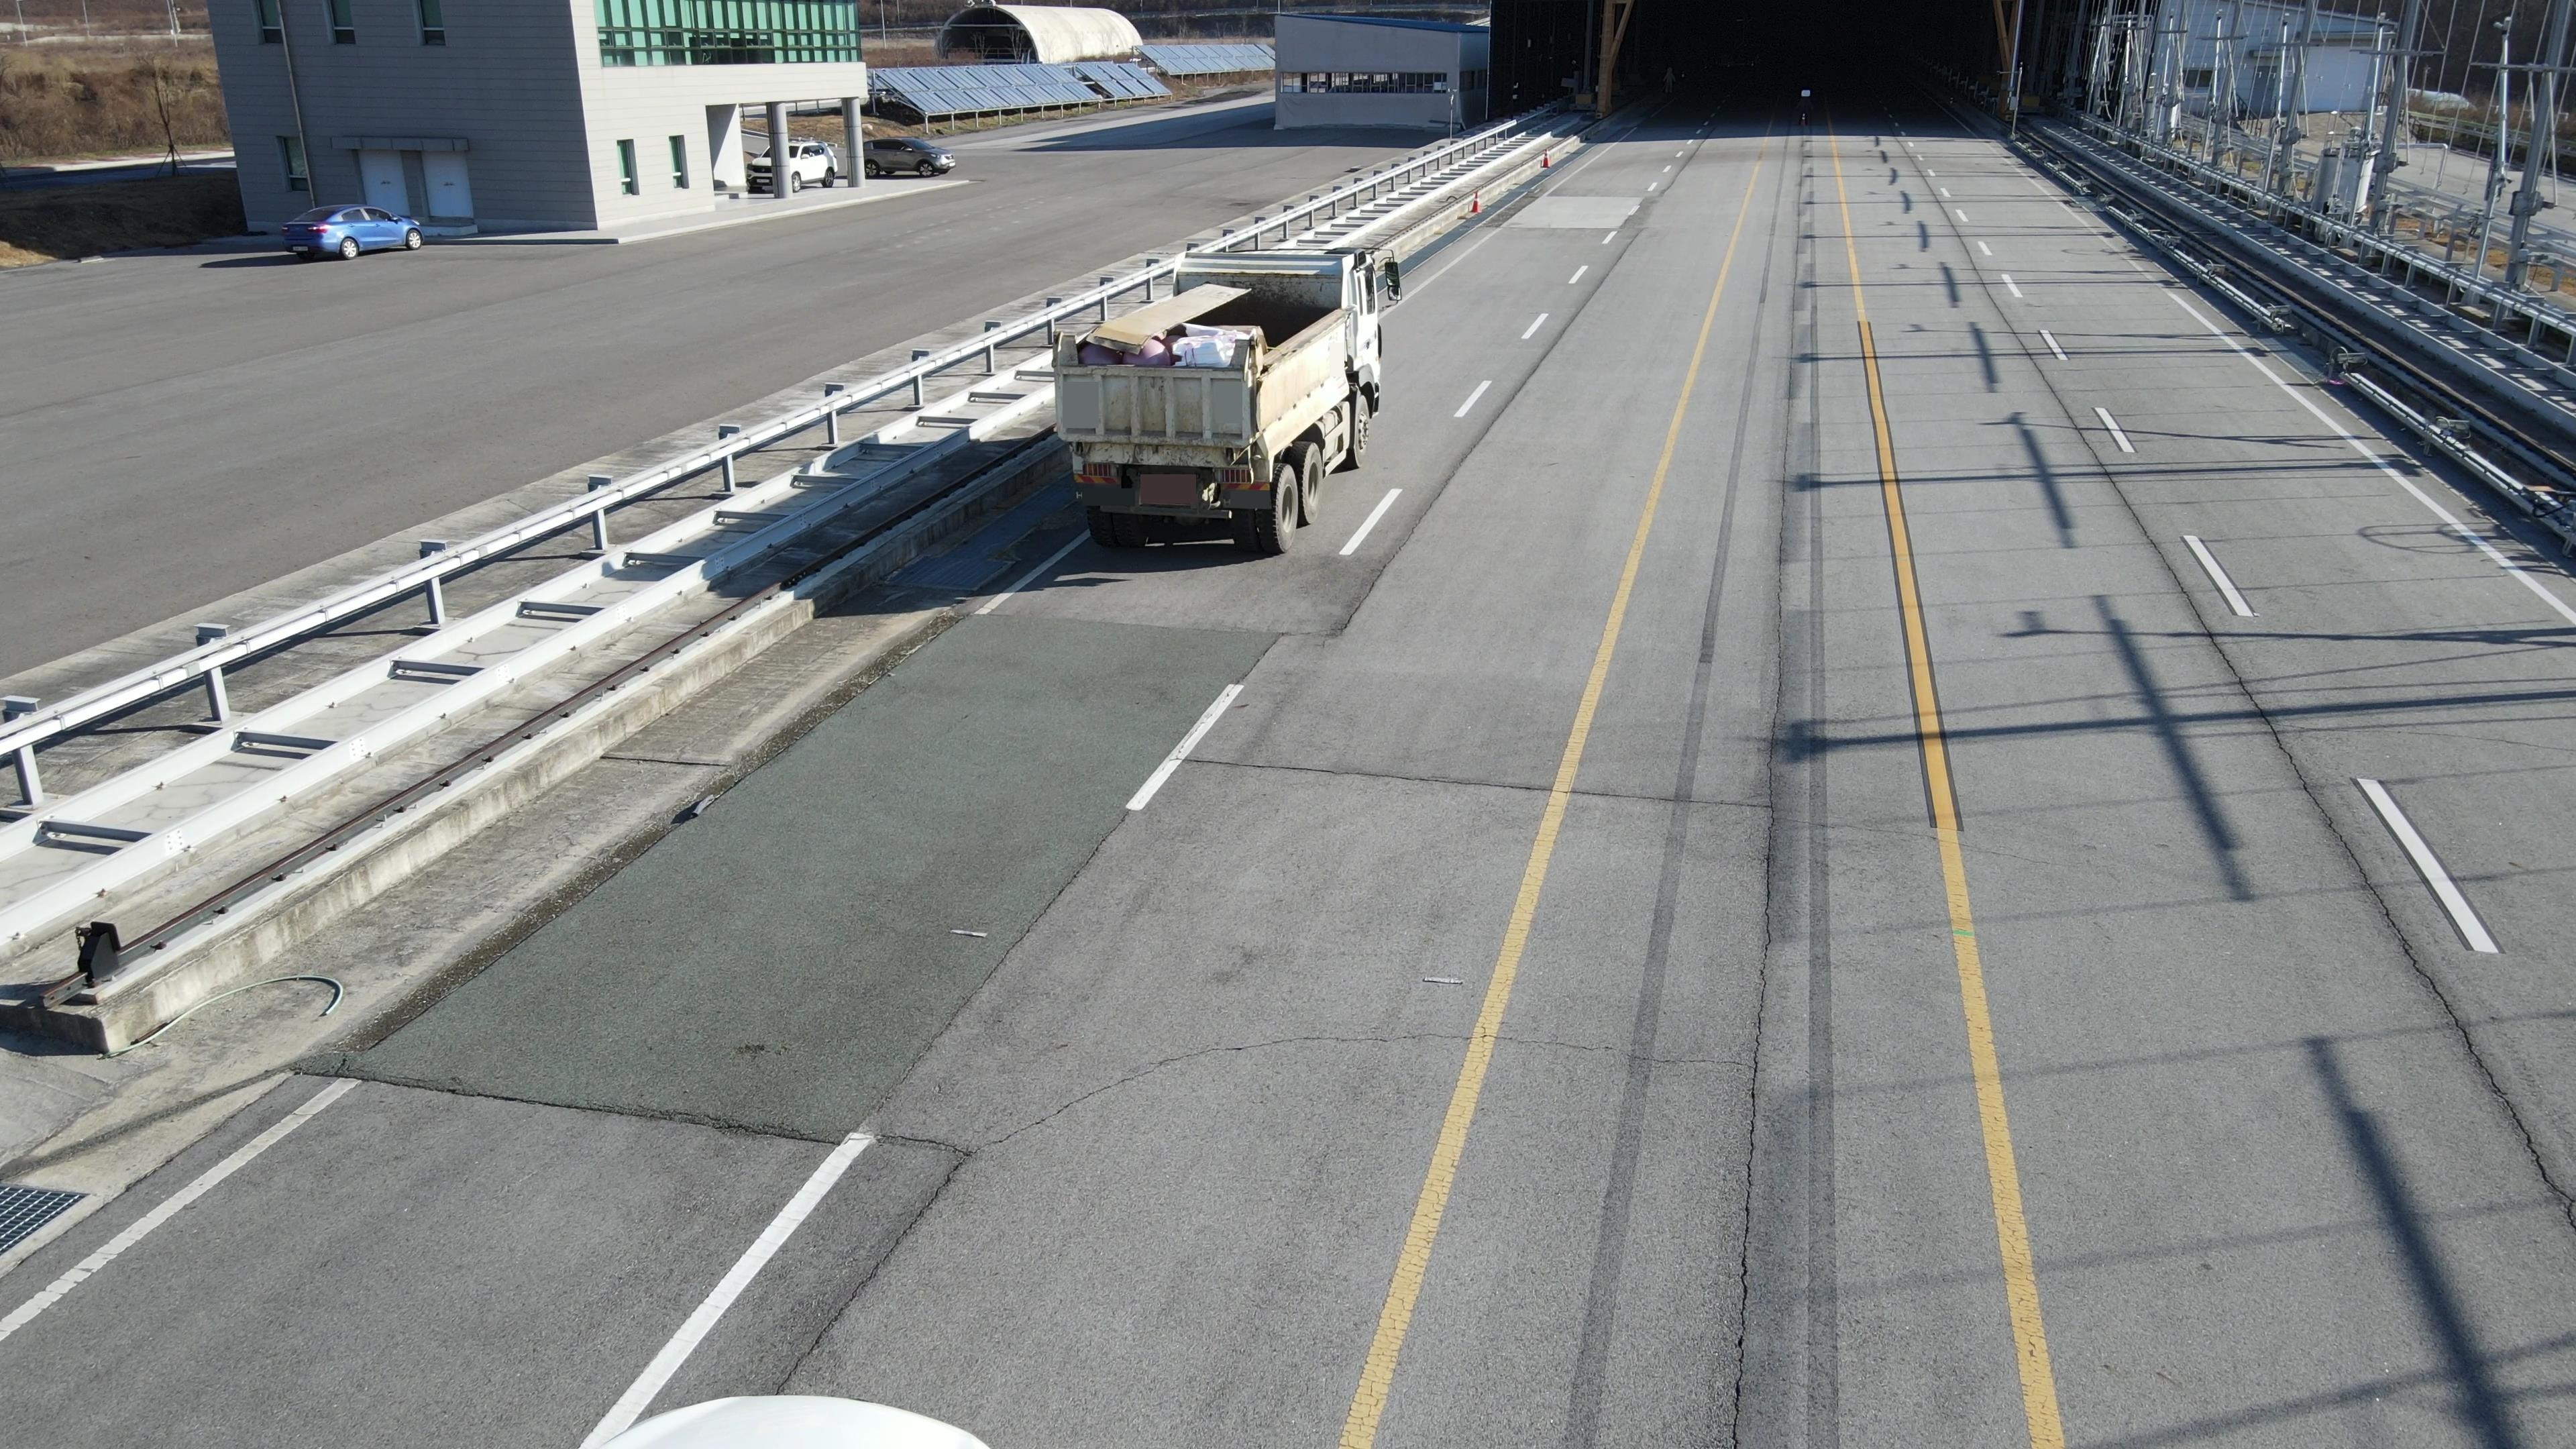불법차량: (1052, 245, 1403, 553)
